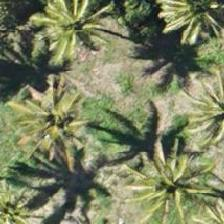coconut_tree: (0, 66, 90, 156), (124, 142, 214, 223), (12, 0, 102, 63), (0, 158, 66, 223), (151, 0, 223, 48)
